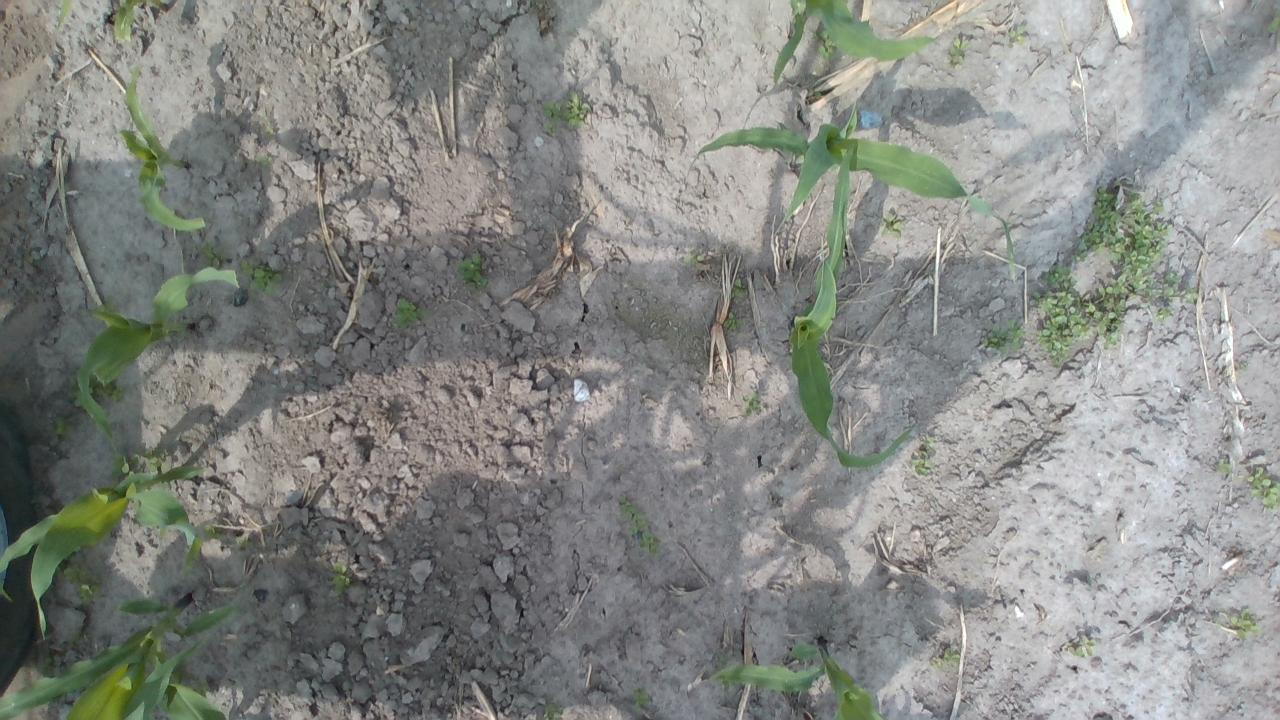Maize: (697, 105, 1017, 262), (787, 150, 914, 472), (0, 462, 202, 640), (0, 590, 244, 720), (74, 266, 240, 444), (713, 633, 886, 720), (119, 66, 204, 231), (776, 0, 939, 86), (60, 0, 170, 44)
Weeds: (1118, 192, 1173, 306), (1032, 261, 1088, 367), (1072, 185, 1133, 262), (55, 555, 106, 609), (1086, 282, 1126, 350), (617, 494, 659, 552), (541, 89, 592, 136), (241, 255, 287, 297), (978, 318, 1026, 352), (88, 373, 128, 408), (455, 250, 490, 289), (392, 296, 432, 330), (1248, 467, 1280, 509), (1162, 270, 1199, 305), (911, 434, 938, 476), (134, 445, 172, 473), (1230, 608, 1262, 638), (193, 238, 220, 269), (330, 560, 352, 596), (816, 29, 840, 62), (52, 415, 78, 442), (740, 391, 766, 417), (879, 212, 905, 236), (110, 453, 134, 478), (934, 647, 960, 669), (630, 686, 650, 714), (66, 375, 82, 408), (722, 310, 744, 334), (188, 674, 210, 697), (949, 38, 969, 63), (201, 523, 224, 542), (729, 277, 748, 299), (1075, 638, 1097, 657), (684, 248, 704, 268), (808, 74, 822, 101), (542, 702, 563, 720), (1008, 25, 1025, 47), (1267, 8, 1280, 32), (100, 296, 116, 312), (1218, 457, 1233, 474), (253, 154, 273, 166), (1156, 306, 1173, 320), (715, 655, 728, 671), (69, 628, 85, 640), (720, 678, 736, 690)
